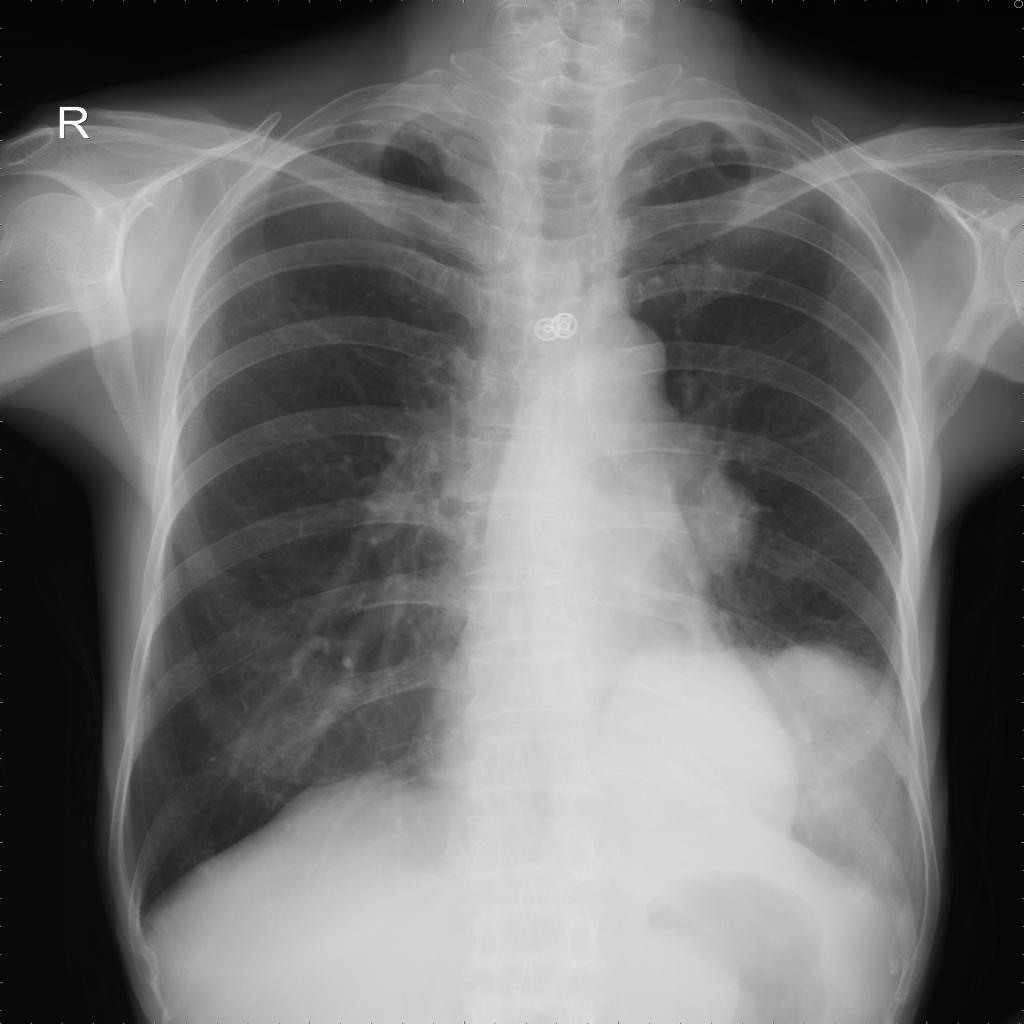Nodule: (660, 651, 901, 883), (641, 459, 753, 575)
